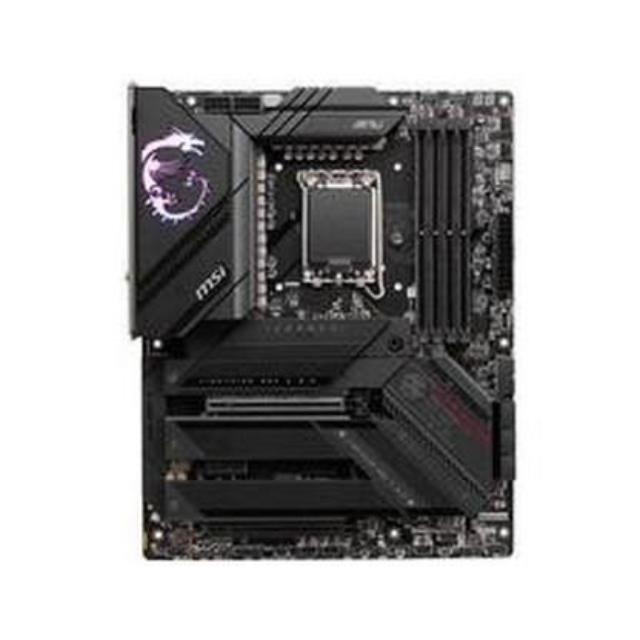Mainboard: (115, 71, 530, 577)
